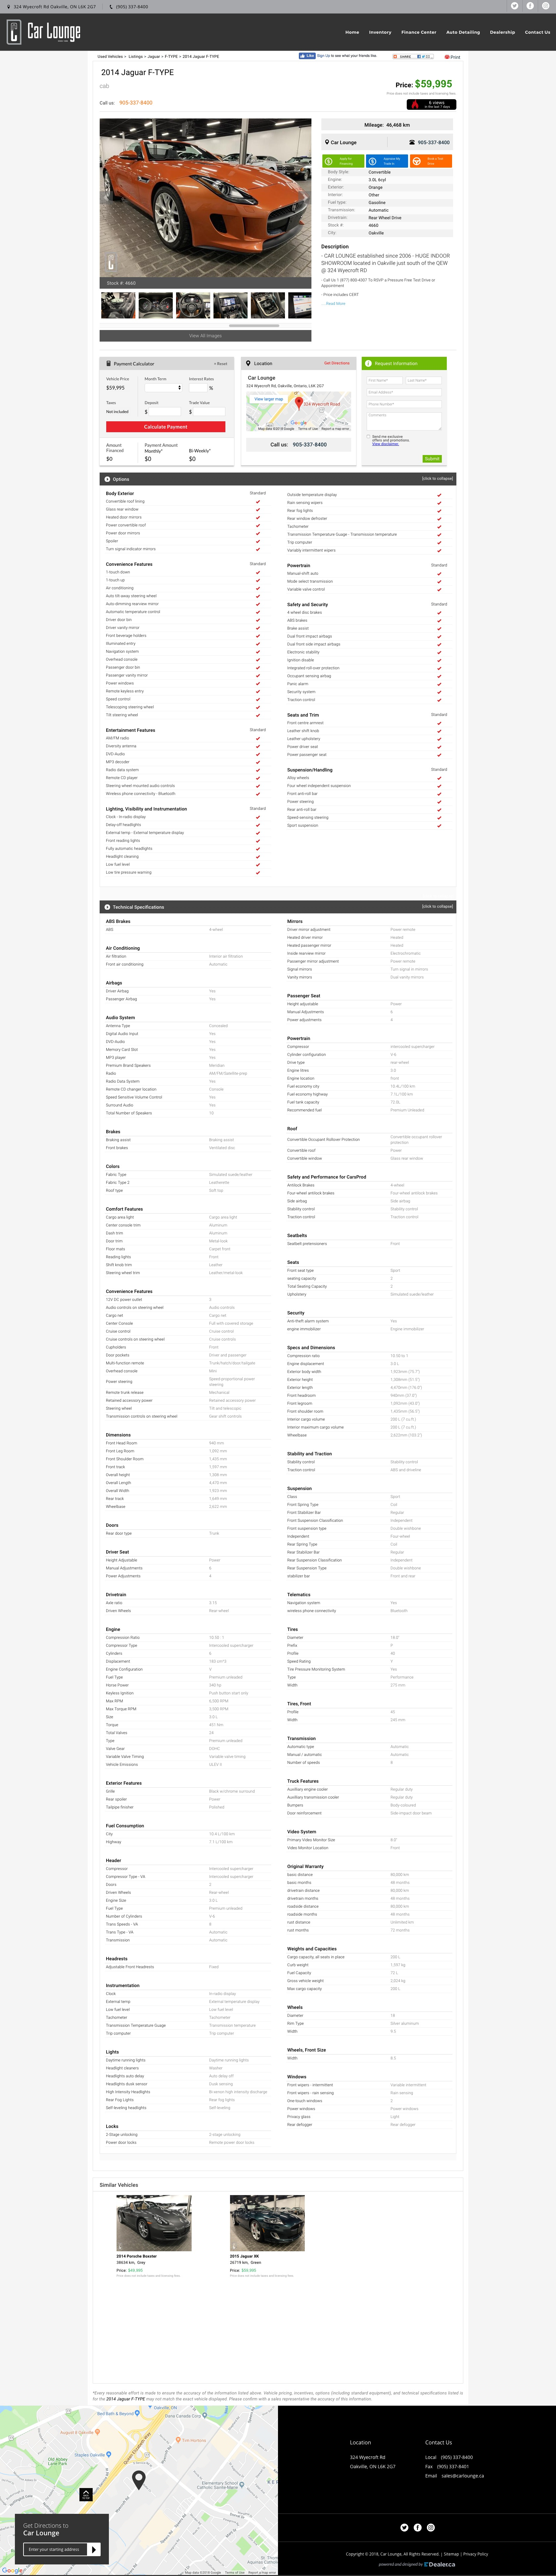car: (298, 191, 313, 205)
